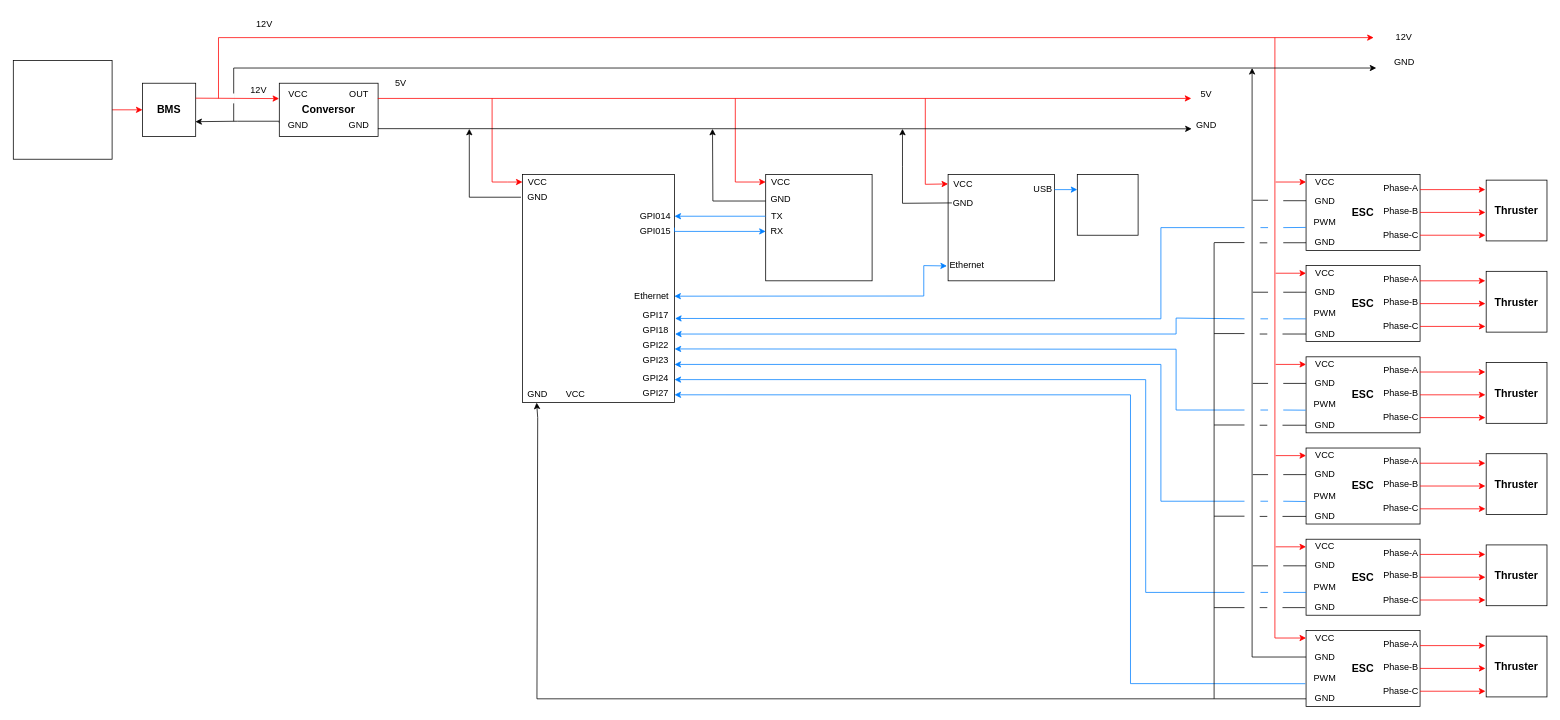
The diagram is 1560 pixels wide and 720 high, and some of its shapes have lost their labels. Here are the shapes that lost their labels. From the top down, the box of each, then its label:
(13, 60, 112, 159): Battery
(1077, 174, 1138, 235): Câmera
(765, 174, 872, 281): PixHawk
(947, 174, 1054, 281): Jetson
(522, 174, 674, 402): RaspBerry
